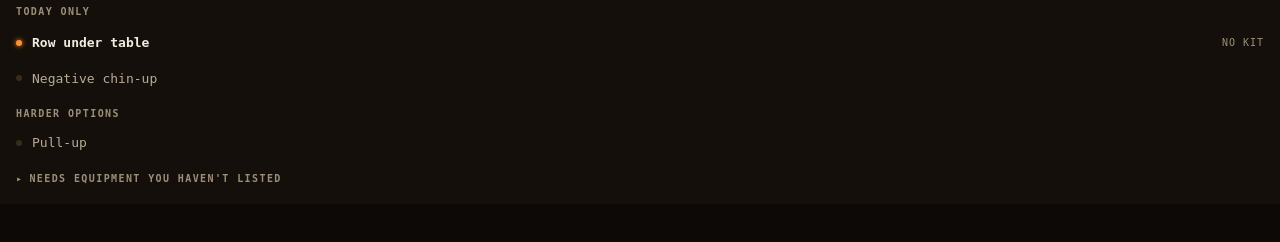
Scenario: SwapPanel sections › keeps what needs unlisted equipment collapsed until asked
Check: the text "Ring row" is not shown
Click the button "▸ NEEDS EQUIPMENT YOU HAVEN'T LISTED".
click(156, 178)  # box [16,160,1264,190]
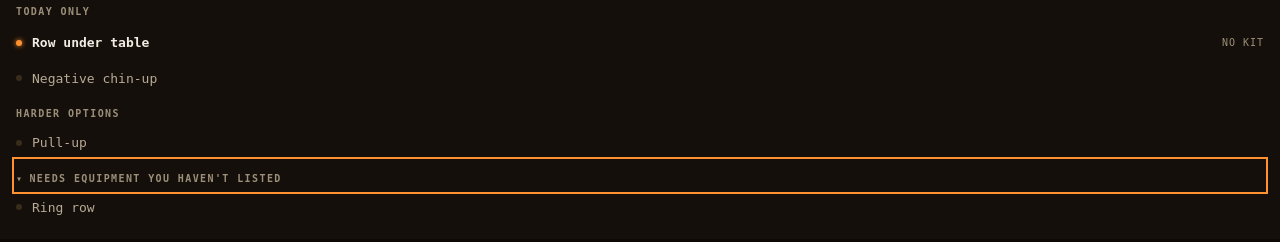
Check: the button "Ring row" is shown, box [16,190,1264,225]
